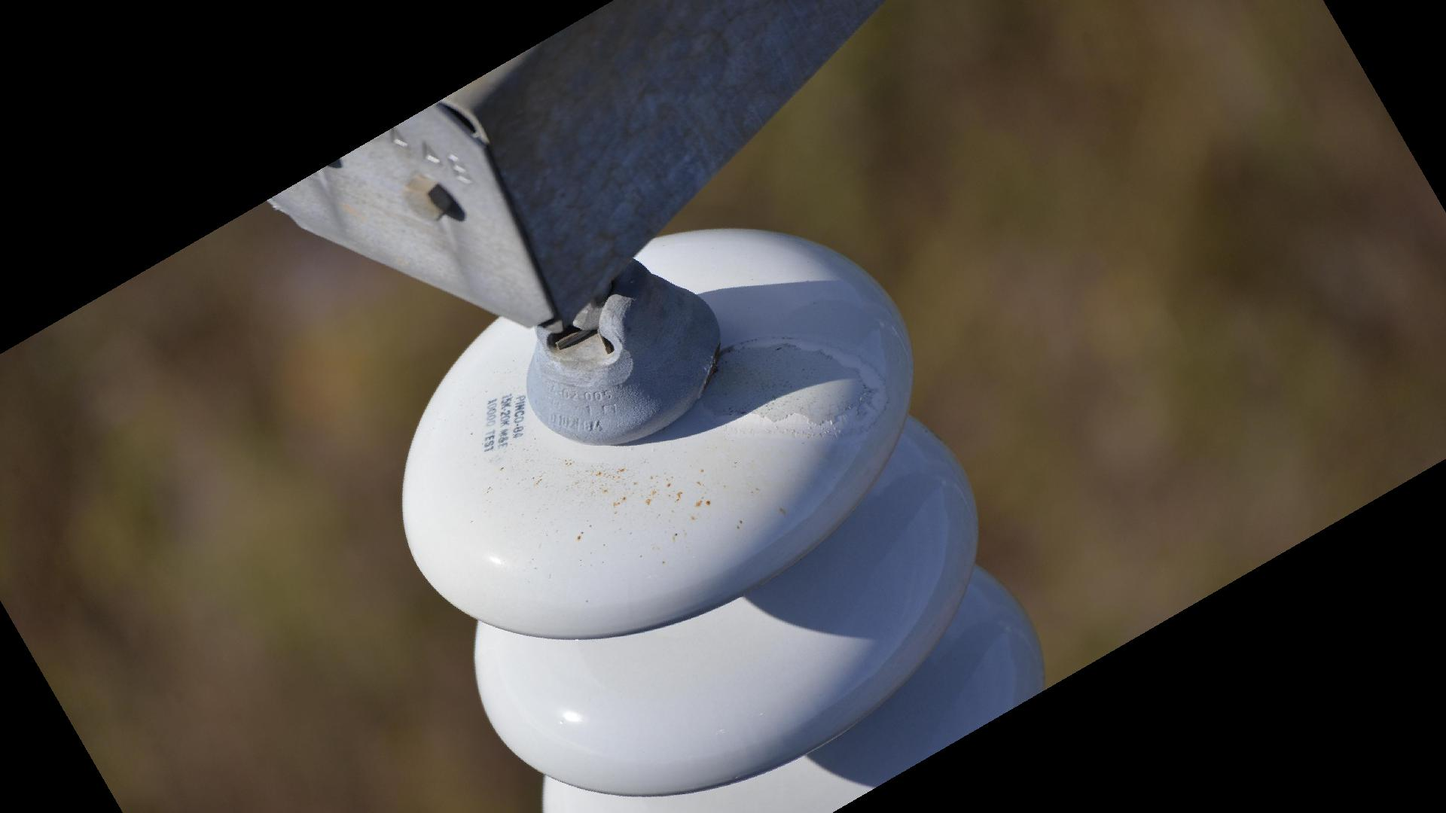insulator: (393, 218, 1054, 813)
insulator_flashover: (702, 337, 874, 437)
